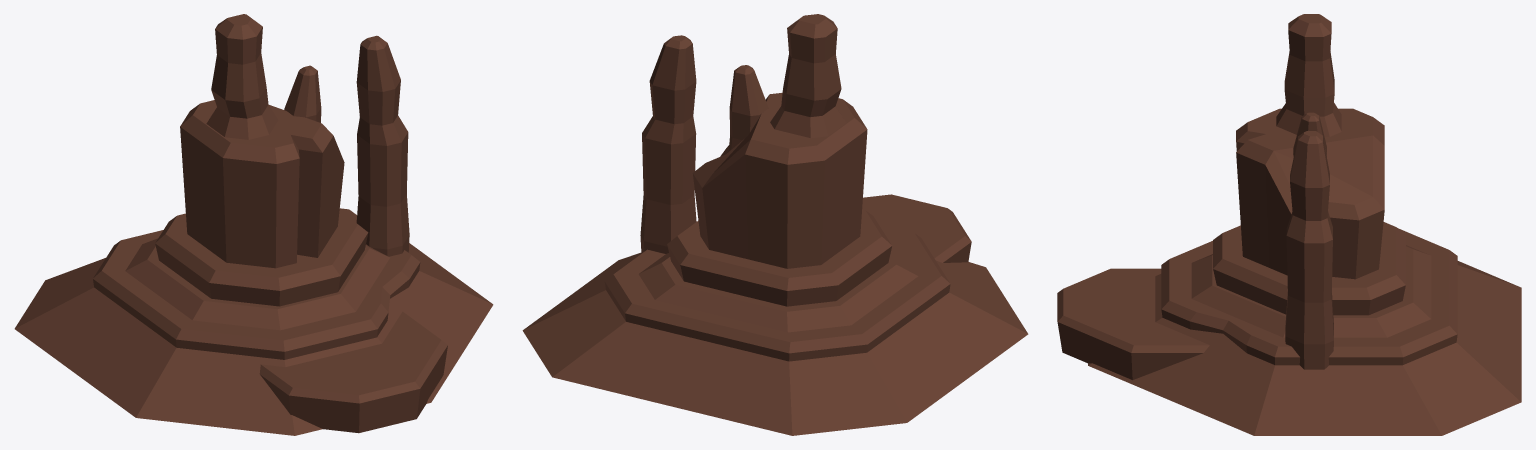
File: Rock3.fbx
3 views of the same model, side by side, from view 1: azimuth 30°, elevation 25°; view 2: azimuth 150°, elevation 25°; view 3: azimuth 270°, elevation 25° (orthographic). The views are drawn at different scales.
Visible parts, largest first — view 1: Rock3; view 2: Rock3; view 3: Rock3.
Boxes of the visible parts, x1=… form: Rock3: x1=14, y1=14, x2=493, y2=435; Rock3: x1=522, y1=14, x2=1028, y2=435; Rock3: x1=1057, y1=14, x2=1521, y2=435.
Bounding box in the file's own units: 7089 × 5606 × 7591.
